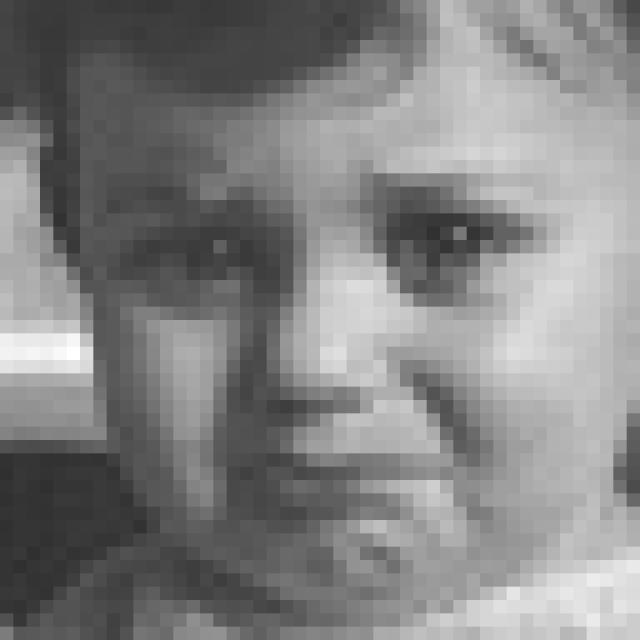sad: (110, 154, 568, 546)
